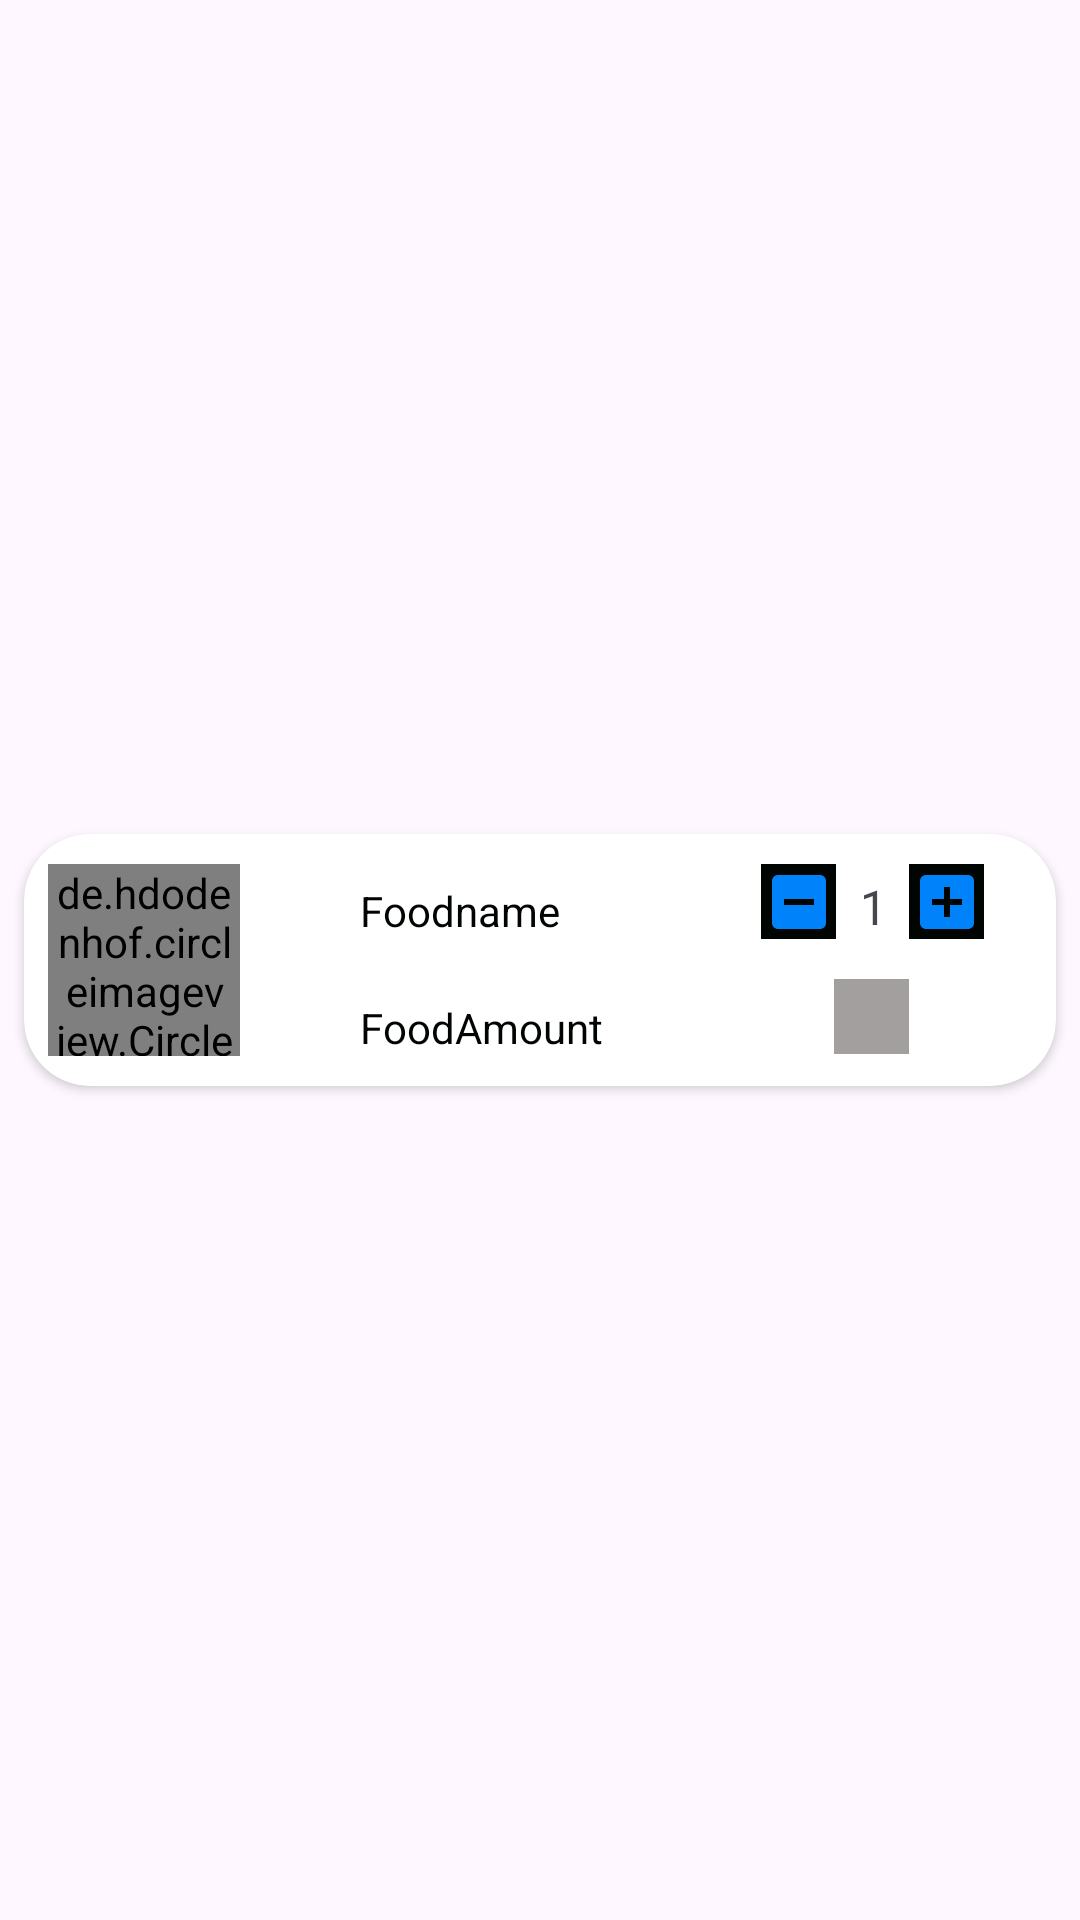

Icon click points for this 1080 × 1920 phone screenshot, format point (x, y):
add: point (946, 901)
minus: point (798, 901)
